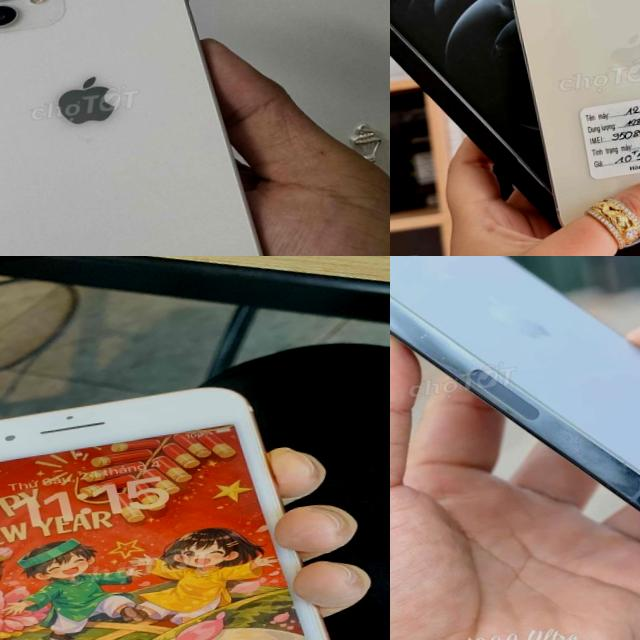gen_12_13: (390, 256, 640, 590), (0, 0, 311, 256), (492, 0, 640, 245)
gen_7_8: (0, 368, 387, 640)
scratch: (0, 401, 134, 451)
